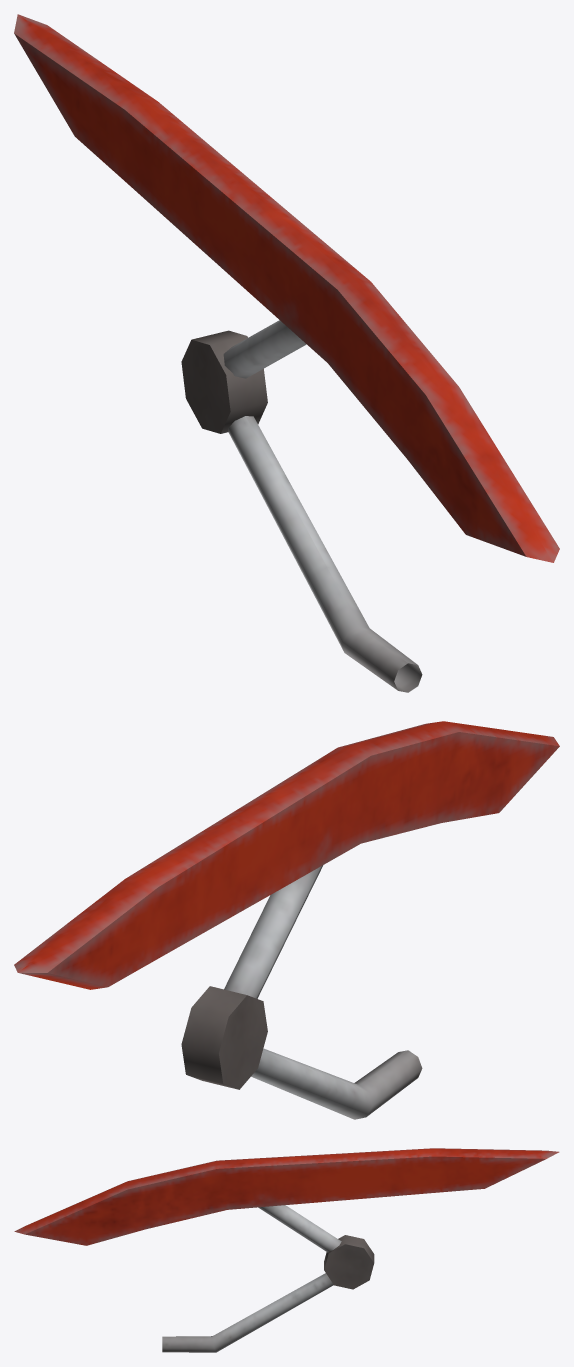
The model's file is cohete_booster1.obj.
3 views of the same model, one above another, from view 1: azimuth 30°, elevation 25°; view 2: azimuth 150°, elevation 25°; view 3: azimuth 270°, elevation 25° (orthographic). The views are drawn at different scales.
Parts seen in each view (by area): view 1: cohete_booster1; view 2: cohete_booster1; view 3: cohete_booster1.
Boxes of the visible parts, box(x1,y1,x2,y2) form: cohete_booster1: box(14, 14, 559, 692); cohete_booster1: box(14, 721, 559, 1119); cohete_booster1: box(14, 1148, 559, 1352).
Bounding box in the file's own units: 0.0961 × 0.9798 × 2.39.
Materials: 1 (1 with a texture image).
